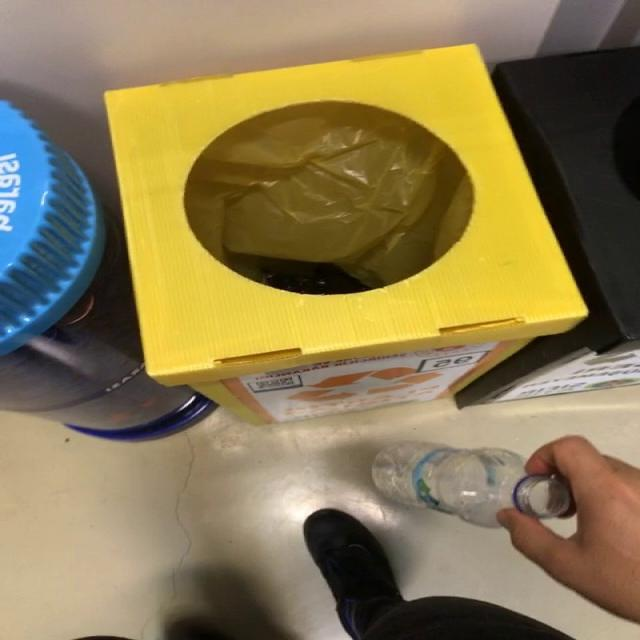plastic: (372, 442, 572, 528)
